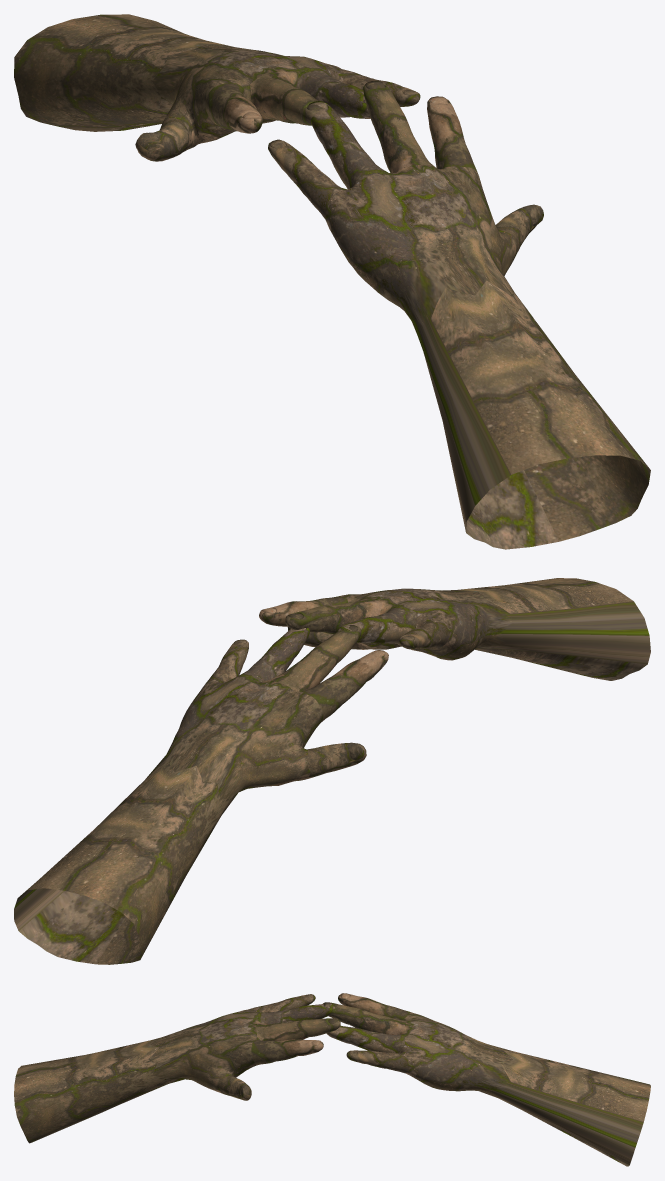
File: hands_000007.obj
3 views of the same model, one above another, from view 1: azimuth 30°, elevation 25°; view 2: azimuth 150°, elevation 25°; view 3: azimuth 270°, elevation 25° (orthographic). The views are drawn at different scales.
Visible parts, largest first — view 1: hand.001_Mesh.001, hand_Mesh; view 2: hand_Mesh, hand.001_Mesh.001; view 3: hand_Mesh, hand.001_Mesh.001.
Part boxes in pixels (x1,y1,x2,y2): hand.001_Mesh.001: (268,81,650,549); hand_Mesh: (14,14,420,161); hand_Mesh: (14,625,388,964); hand.001_Mesh.001: (259,578,650,680); hand_Mesh: (323,993,650,1166); hand.001_Mesh.001: (14,994,340,1143).
Bounding box in the file's own units: 1.58 × 1.4 × 5.88.
1 material, 1 textured.
